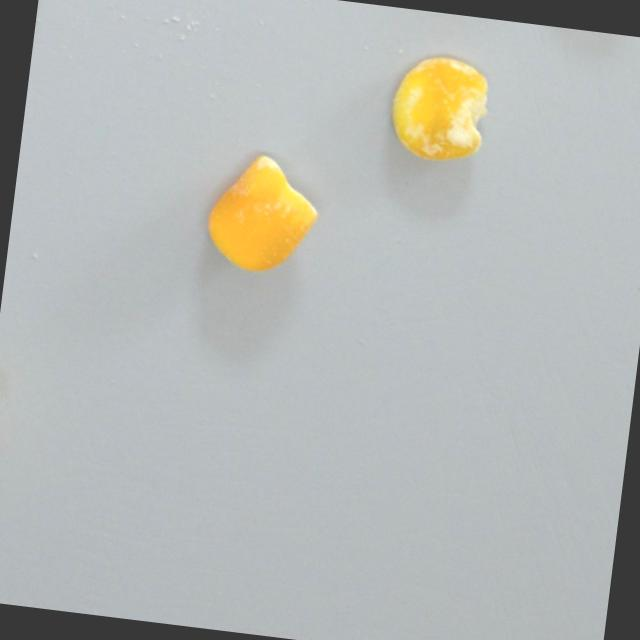no_canjicado: (202, 148, 324, 279)
pelicula: (385, 52, 494, 167)
